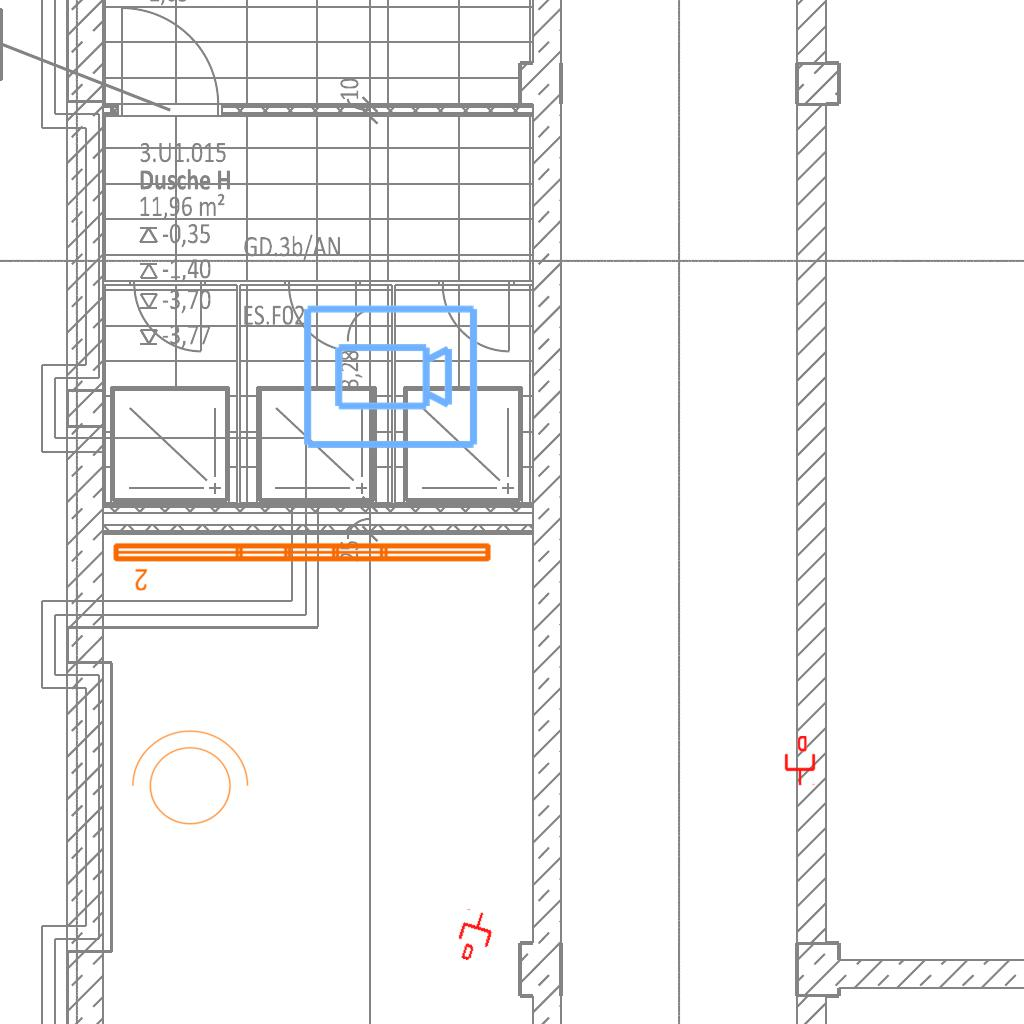Ambulanz_Pendelleuchte_LED: (109, 537, 496, 593)
Datenanschluss_einfach: (451, 907, 499, 965), (783, 736, 817, 786)
KFO_Kamera_mit_Festobjektiv: (299, 301, 481, 455)
Scheinwerfer_fuer_Alarmbeleuchtung: (121, 725, 253, 837)
